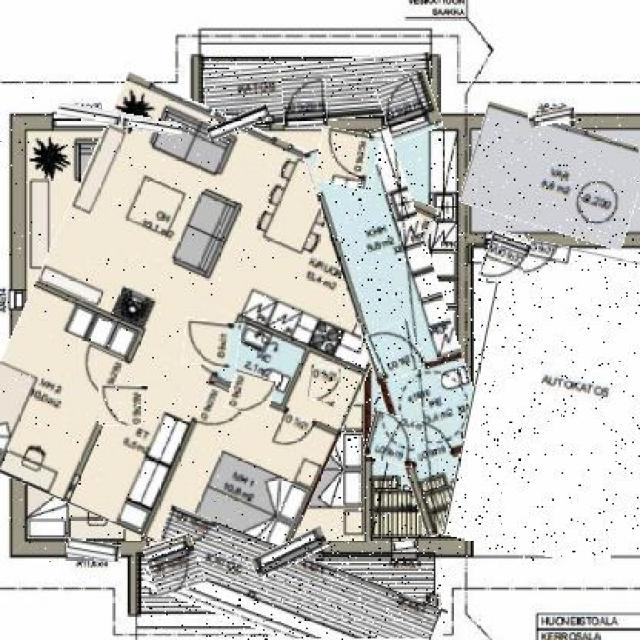door: (378, 74, 440, 138), (317, 129, 378, 186), (148, 535, 203, 594), (366, 414, 422, 466), (369, 322, 420, 378), (183, 319, 240, 366), (483, 231, 529, 286), (283, 77, 326, 128), (226, 371, 274, 415), (100, 386, 149, 426), (308, 366, 340, 400)
window: (252, 534, 330, 571), (57, 108, 181, 130), (206, 110, 271, 136), (68, 540, 120, 560), (530, 106, 576, 125), (392, 540, 417, 552)
zone: (0, 97, 402, 566), (334, 128, 483, 535), (457, 240, 640, 560), (143, 529, 445, 640), (464, 112, 640, 239), (203, 57, 432, 125)
